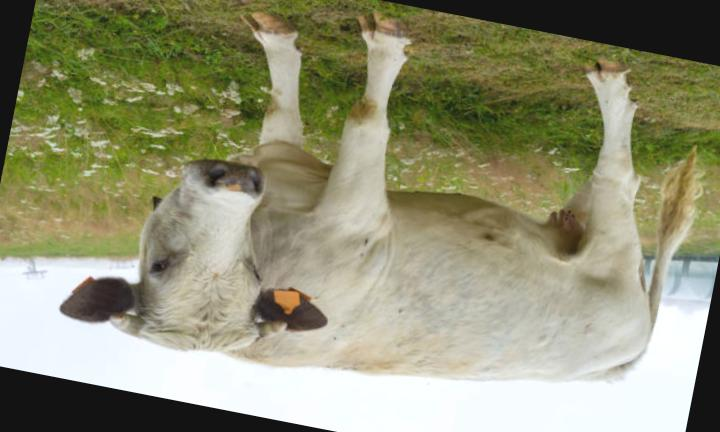Charolais: (60, 13, 699, 382)
